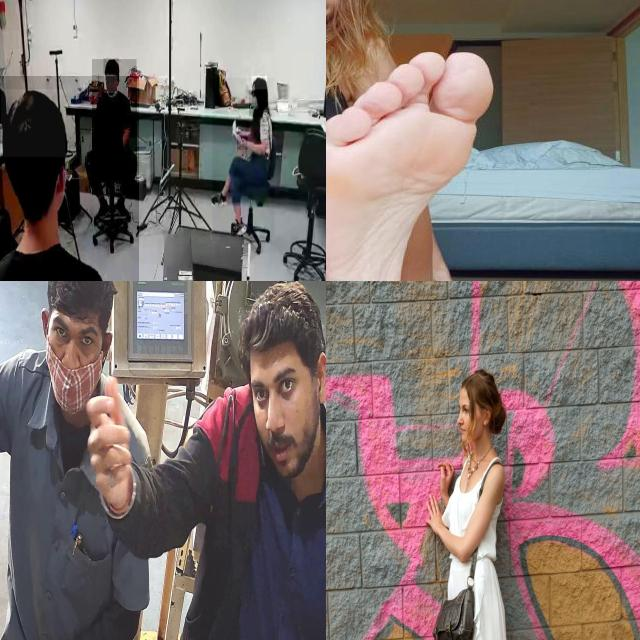Barefoots: (326, 41, 489, 281)
No_Ear-Protection: (312, 342, 326, 412), (38, 295, 54, 350)
No_Glasses: (46, 312, 104, 361), (248, 359, 302, 406)
face_mask: (249, 90, 263, 117)
face_nomask: (104, 75, 118, 94)
hand_noglove: (237, 136, 248, 150)
head_nohelmet: (1, 89, 66, 158), (103, 58, 119, 74), (252, 76, 268, 90)
person: (0, 76, 139, 281), (213, 78, 275, 238), (92, 59, 137, 195)
shoes: (113, 194, 134, 223), (210, 184, 230, 210), (92, 196, 111, 223), (230, 216, 252, 239)
